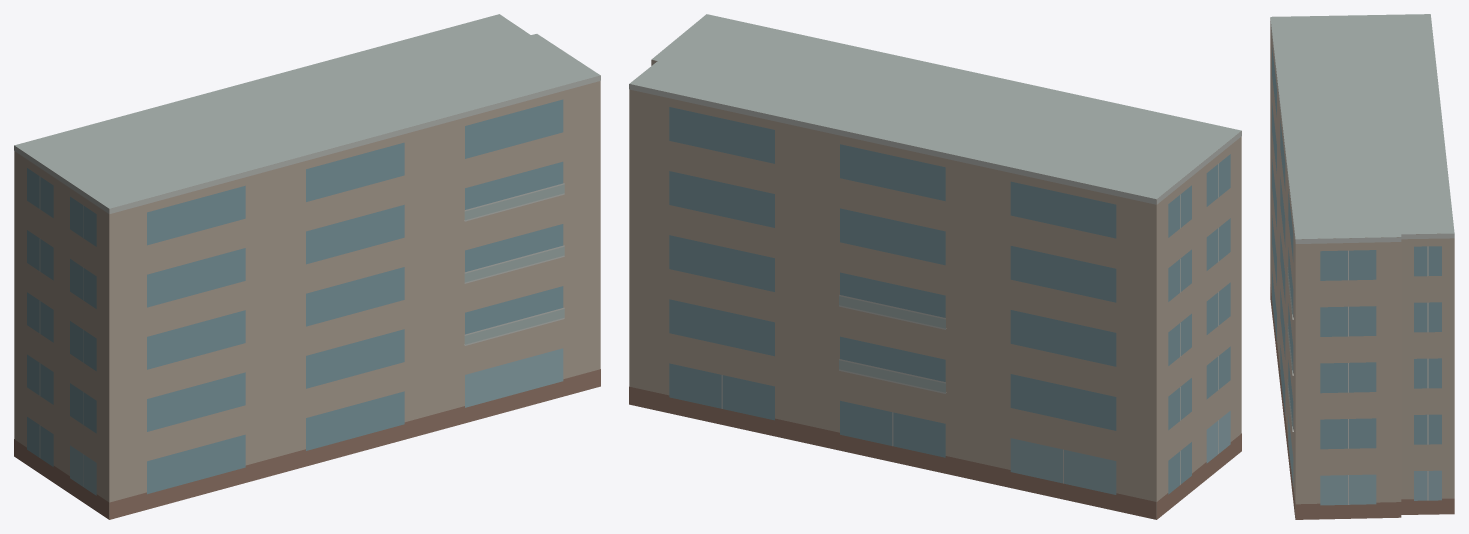
The model's file is survey-upis-32748156.glb.
3 renders of one model, left to right at view 1: azimuth 30°, elevation 25°; view 2: azimuth 150°, elevation 25°; view 3: azimuth 270°, elevation 25°, orthographic. The views are drawn at different scales.
Parts seen in each view (by area): view 1: survey-upis-32748156.tmp; view 2: survey-upis-32748156.tmp; view 3: survey-upis-32748156.tmp.
Part boxes in pixels (x1,y1,x2,y2): survey-upis-32748156.tmp: (14,14,600,519); survey-upis-32748156.tmp: (629,14,1241,519); survey-upis-32748156.tmp: (1270,14,1454,519).
Bounding box in the file's own units: 24.11 × 14 × 8.34.
